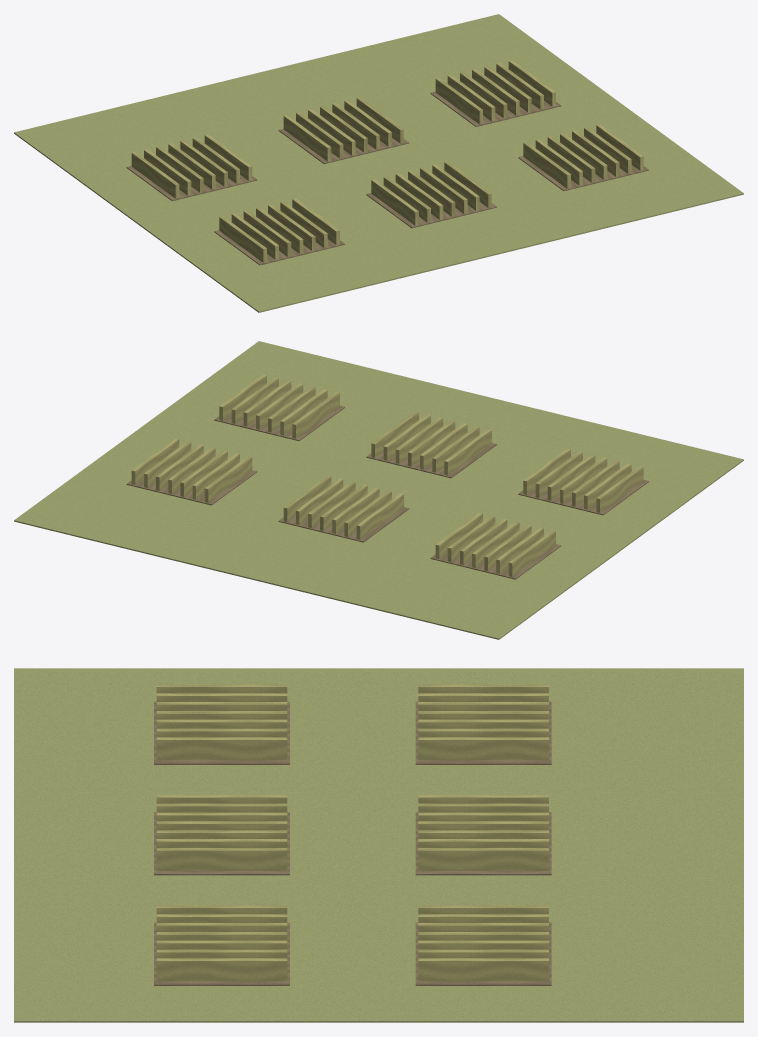
Rendered from plot-farm.glb.
The picture shows the model from 3 angles, top to bottom: view 1: azimuth 30°, elevation 25°; view 2: azimuth 150°, elevation 25°; view 3: azimuth 270°, elevation 25°; orthographic projection. The views are drawn at different scales.
Size of the model in its own units: 15.96 by 0.5 by 13.96.
3 materials, 3 textured.
